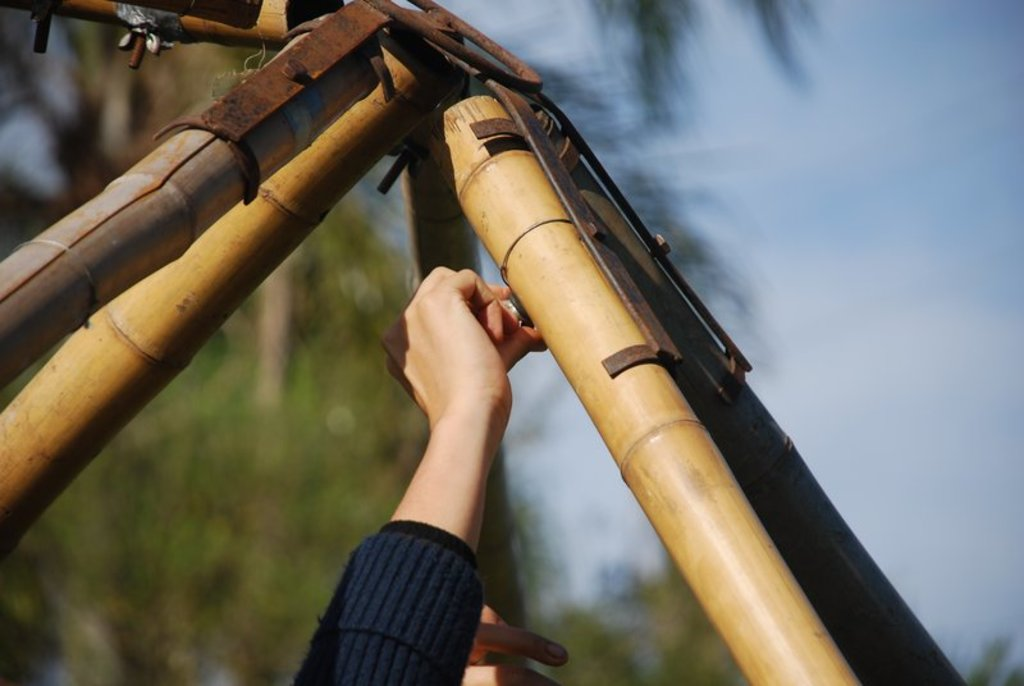Person: (289, 263, 566, 684)
